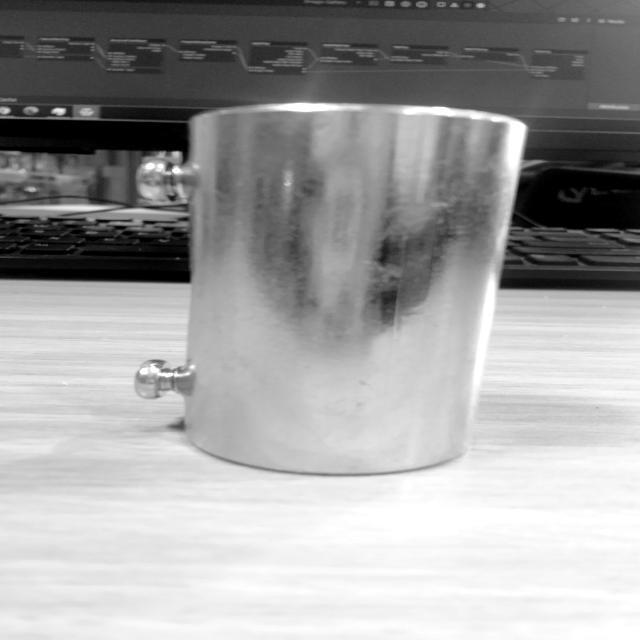Co_Nho: (130, 103, 530, 474)
